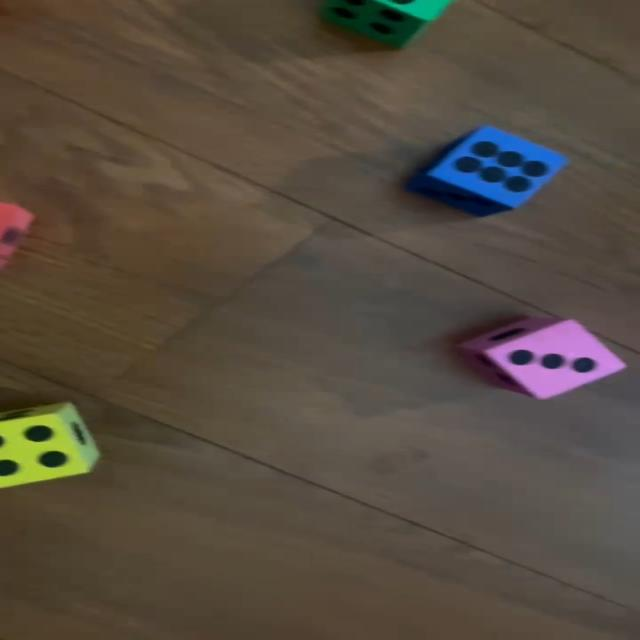blue_block: (410, 126, 570, 217)
red_block: (0, 203, 33, 269)
